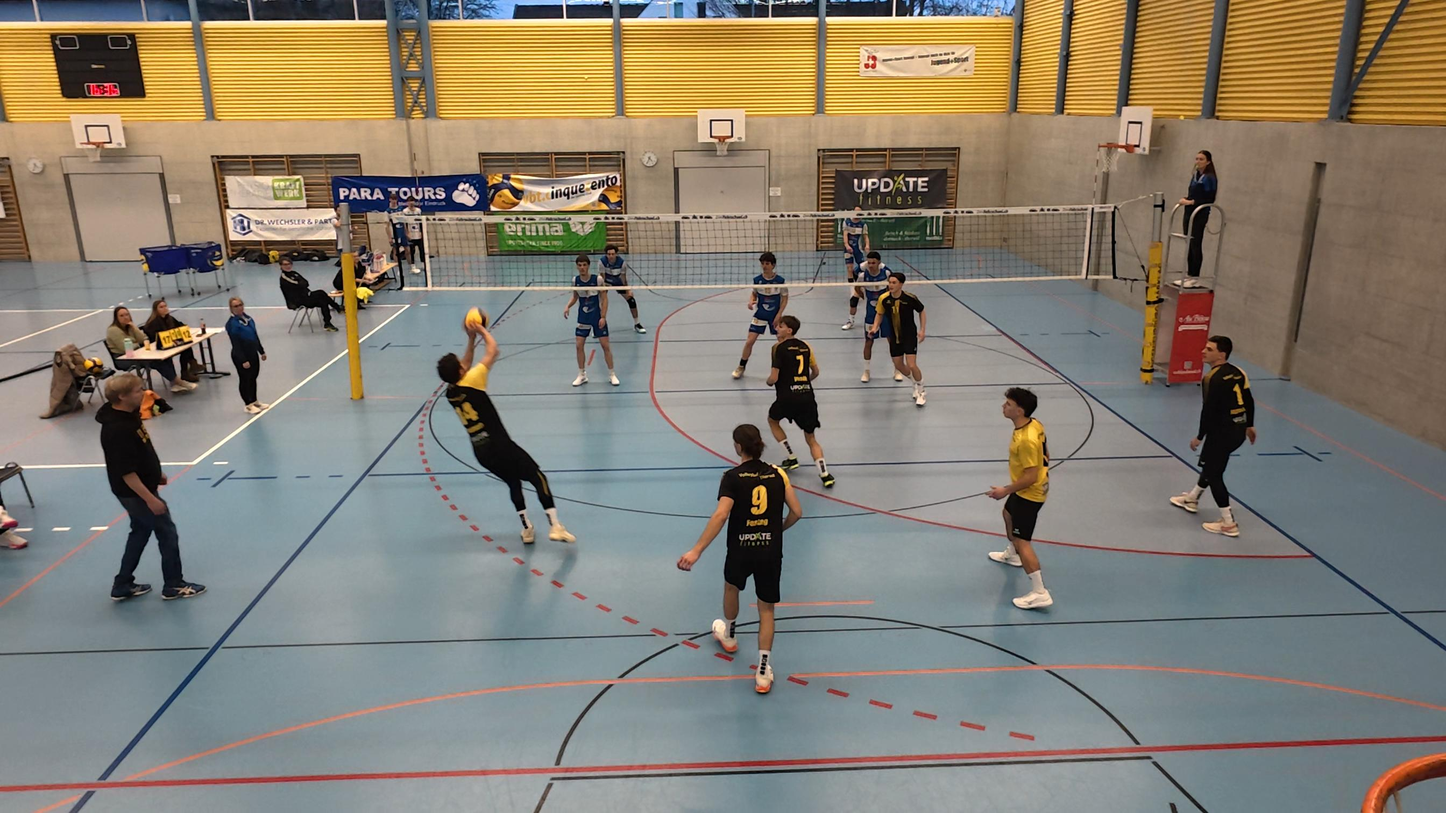ricezione: (428, 321, 579, 550)
